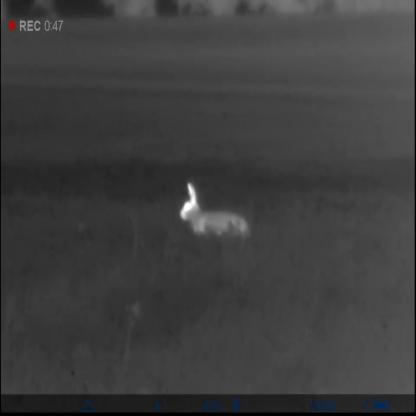rehkitze: (176, 183, 255, 238)
